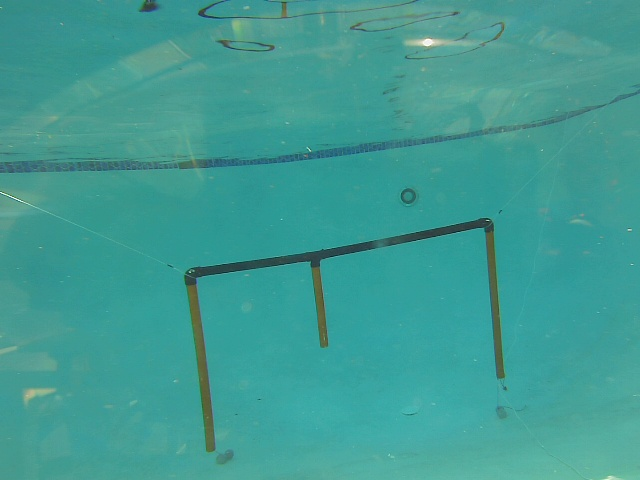Gate: (183, 279, 218, 455), (483, 226, 508, 381), (308, 262, 330, 351)
